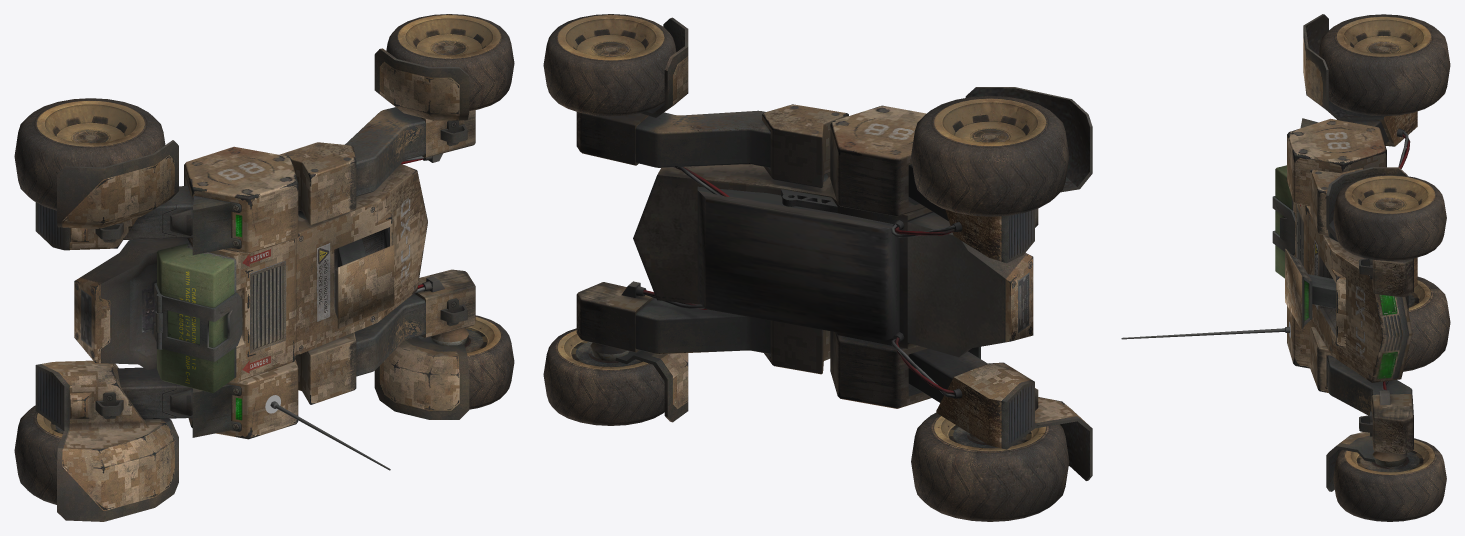
File: veh_t6_drone_rcxd_LOD0.obj
3 renders of one model, left to right at view 1: azimuth 30°, elevation 25°; view 2: azimuth 150°, elevation 25°; view 3: azimuth 270°, elevation 25°, orthographic. The views are drawn at different scales.
Visible parts, largest first — view 1: mtl_veh_t6_rcxd, mtl_veh_t6_rcxd_extra_bits, mtl_veh_t6_rcxd_wheels; view 2: mtl_veh_t6_rcxd, mtl_veh_t6_rcxd_wheels, mtl_veh_t6_rcxd_extra_bits; view 3: mtl_veh_t6_rcxd, mtl_veh_t6_rcxd_wheels, mtl_veh_t6_rcxd_extra_bits.
Part boxes in pixels (box(x1,y1,x2,y2)): mtl_veh_t6_rcxd: box(117, 107, 475, 470); mtl_veh_t6_rcxd_extra_bits: box(35, 48, 469, 521); mtl_veh_t6_rcxd_wheels: box(14, 14, 514, 504); mtl_veh_t6_rcxd: box(576, 104, 987, 442); mtl_veh_t6_rcxd_wheels: box(543, 14, 1069, 521); mtl_veh_t6_rcxd_extra_bits: box(615, 17, 1092, 480); mtl_veh_t6_rcxd: box(1121, 118, 1413, 467); mtl_veh_t6_rcxd_wheels: box(1318, 14, 1450, 521); mtl_veh_t6_rcxd_extra_bits: box(1300, 14, 1417, 491).
Bounding box in the file's own units: 93.33 × 66.17 × 62.77.
